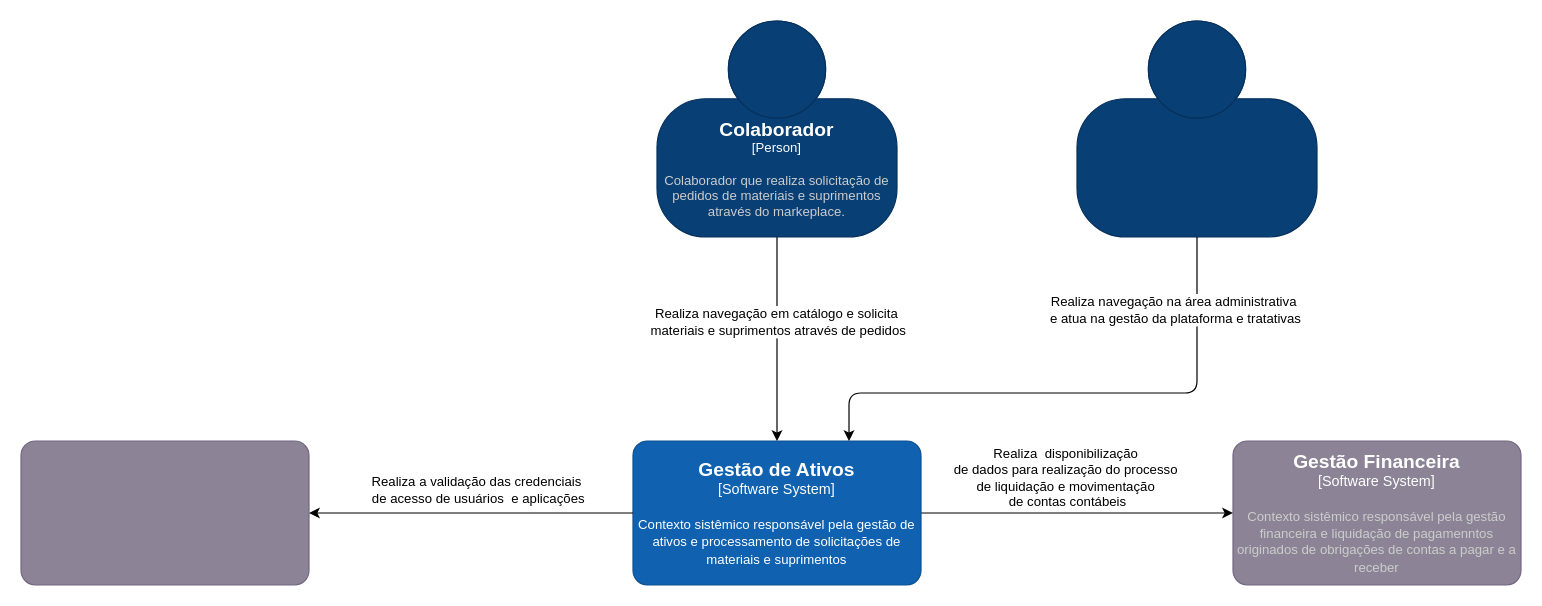
This 1542x606 diagram has some shape labels left out. The shapes that lost their labels are listed below. From the top down, each one's box as (x1, y1, x2, y2) in pixels, then its label:
(1076, 20, 1317, 237): Colaborador [Person] Colaborador que realiza a gestão da plataforma.
(20, 440, 309, 585): Identity Provider [Software System] Identity Provider Corporativo
